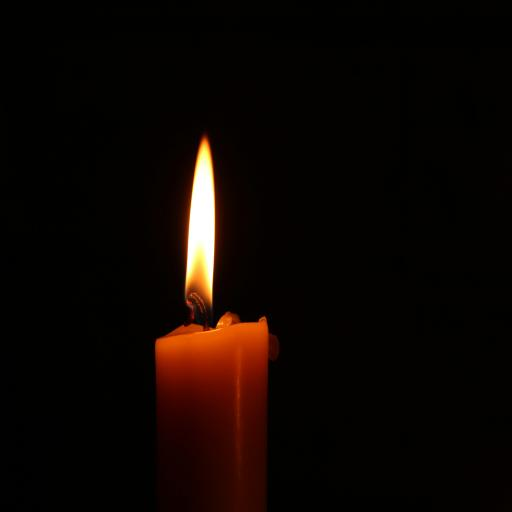candlelight: (156, 136, 278, 512), (183, 133, 217, 333)
